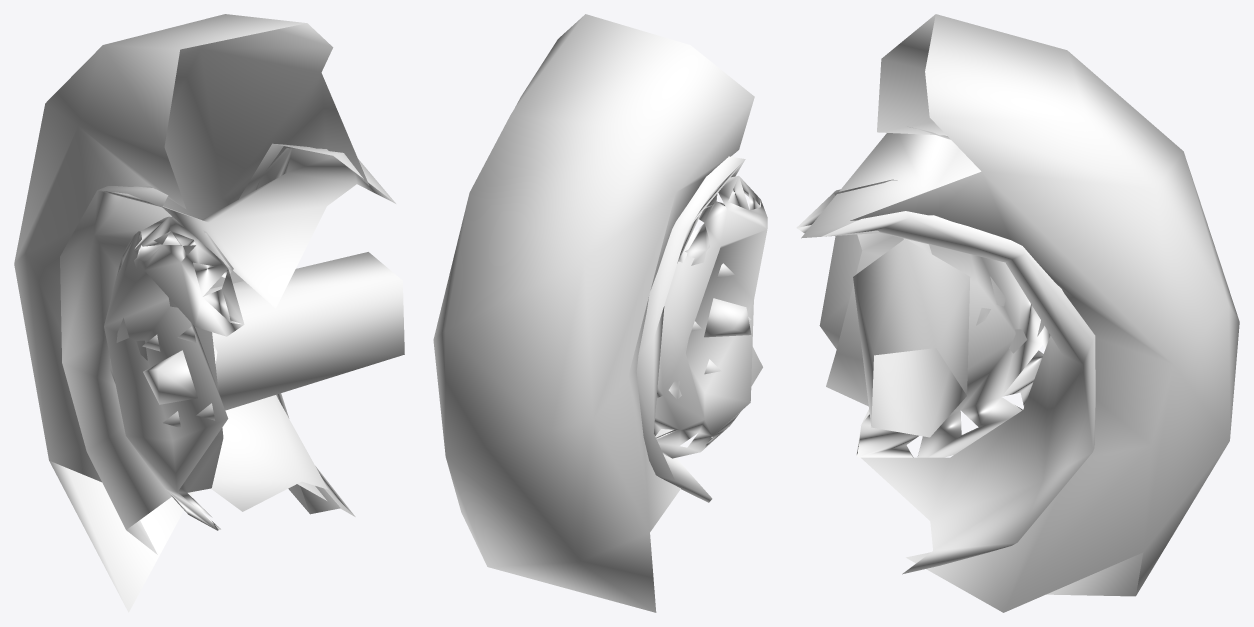
3 renders of one model, left to right at view 1: azimuth 30°, elevation 25°; view 2: azimuth 150°, elevation 25°; view 3: azimuth 270°, elevation 25°, orthographic. The views are drawn at different scales.
Bounding box in the file's own units: 0.2523 × 0.6079 × 0.4182.
Materials: 1 (1 with a texture image).
